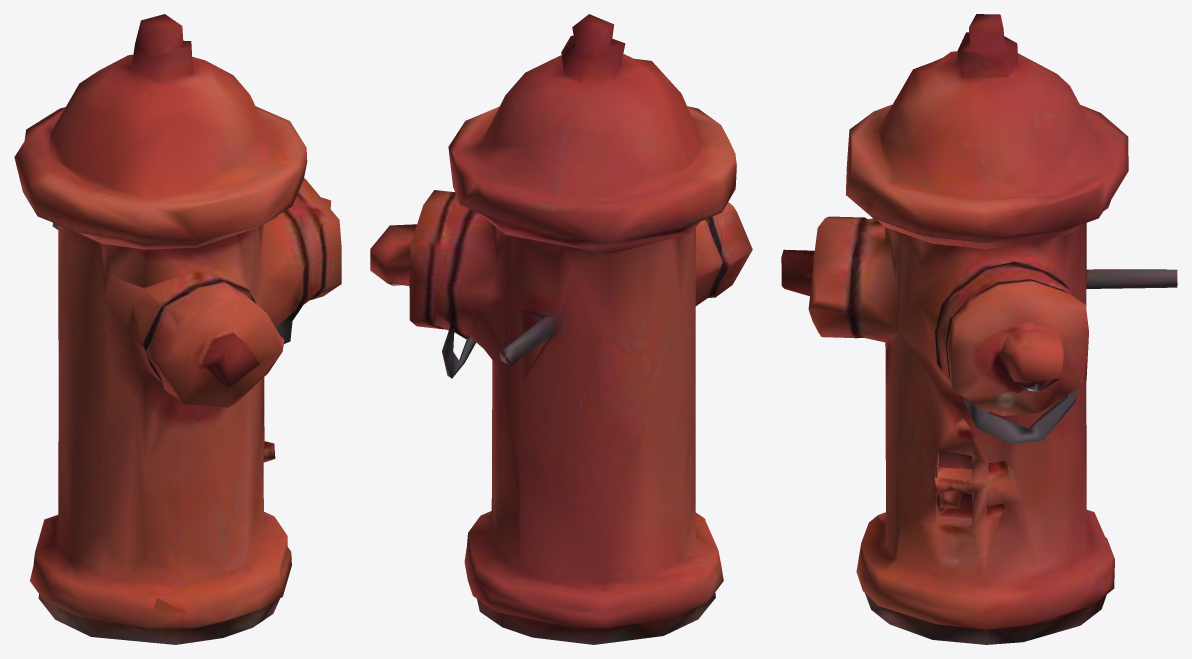
The model's file is hydrant.glb.
3 views of the same model, side by side, from view 1: azimuth 30°, elevation 25°; view 2: azimuth 150°, elevation 25°; view 3: azimuth 270°, elevation 25° (orthographic).
Parts seen in each view (by area): view 1: tripo_node_72978af1-f1b6-43ec-8c82-5032cb7624ba; view 2: tripo_node_72978af1-f1b6-43ec-8c82-5032cb7624ba; view 3: tripo_node_72978af1-f1b6-43ec-8c82-5032cb7624ba.
Boxes of the visible parts, x1,y1,x2,y2 form: tripo_node_72978af1-f1b6-43ec-8c82-5032cb7624ba: (14,14,341,644); tripo_node_72978af1-f1b6-43ec-8c82-5032cb7624ba: (370,14,752,644); tripo_node_72978af1-f1b6-43ec-8c82-5032cb7624ba: (781,14,1177,644).
Bounding box in the file's own units: 0.578 × 1 × 0.6272.
Materials: 1 (1 with a texture image).
